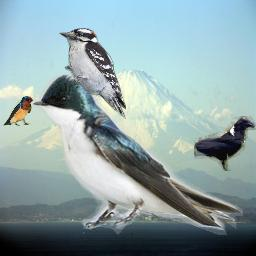Crow: (194, 116, 256, 171)
Swallow: (30, 71, 243, 235), (3, 96, 33, 126)
Woodpecker: (59, 28, 126, 119)
